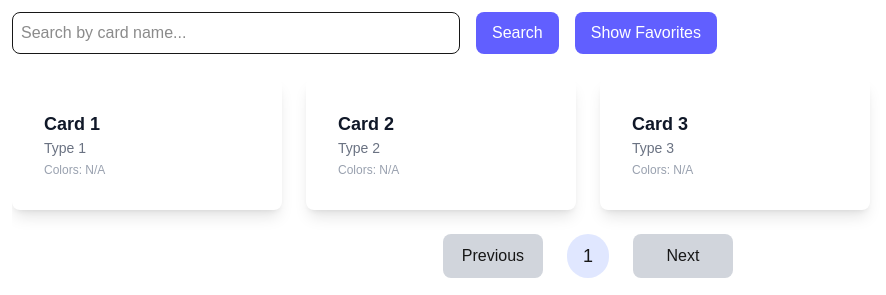
Scenario: Home component › shows favorites when clicking the "Show Favorites" button
This screenshot has width=886, height=295.
Expected: the text "Card 1" is shown, [44,114,100,134]
Expected: the text "Card 2" is shown, [338,114,394,134]
Click the button "Show Favorites".
click(646, 33)  # box [575,12,717,54]
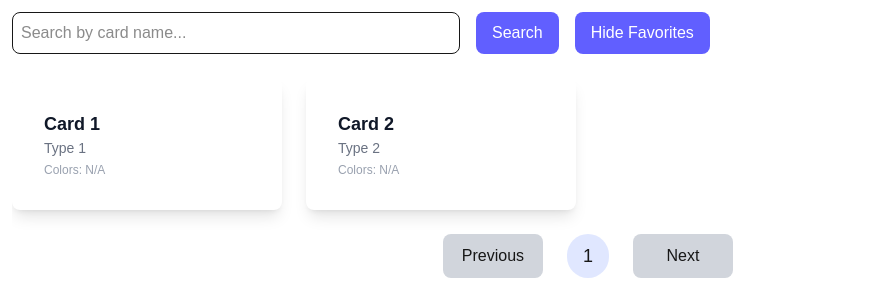
Expected: the text "Card 1" is shown, [44,114,100,134]
Expected: the link "Card 3" is gone
